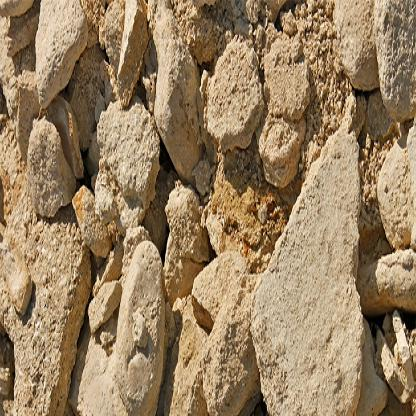Sedimentary_Limestone: (249, 130, 369, 414), (3, 169, 88, 414), (110, 234, 171, 414), (20, 122, 78, 238), (154, 40, 202, 180), (208, 37, 257, 152), (34, 3, 86, 99), (334, 7, 380, 106), (380, 6, 412, 120), (378, 139, 416, 233)
